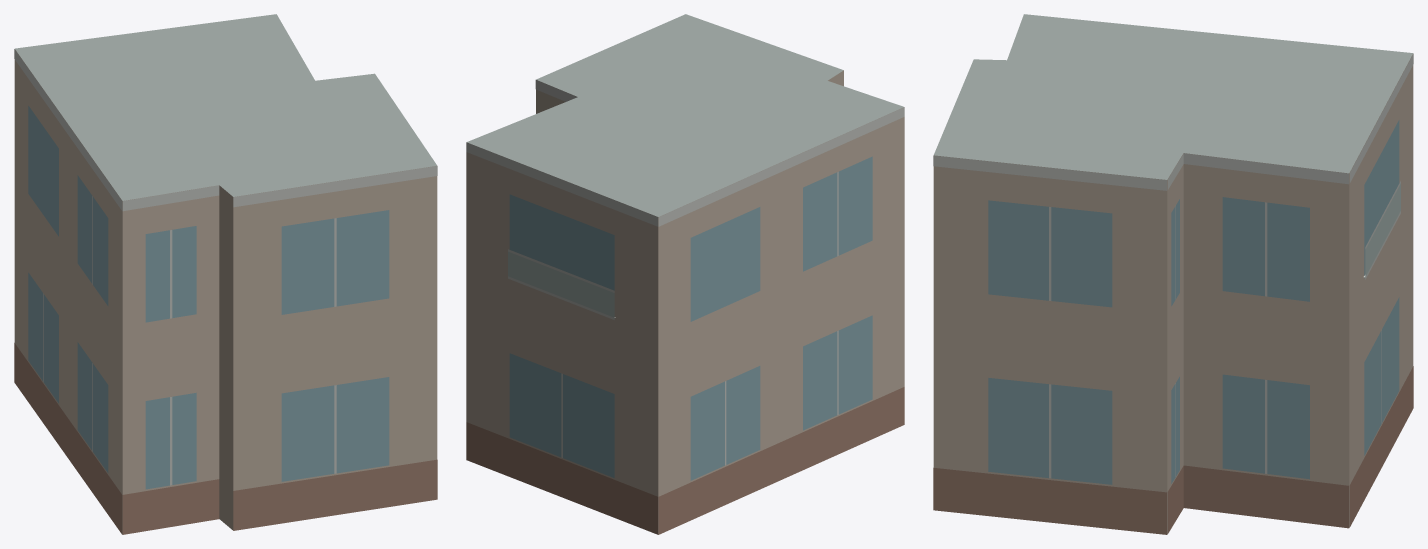
File: survey-upis-32922962.glb
3 views of the same model, side by side, from view 1: azimuth 30°, elevation 25°; view 2: azimuth 150°, elevation 25°; view 3: azimuth 270°, elevation 25° (orthographic). The views are drawn at different scales.
Visible parts, largest first — view 1: survey-upis-32922962.tmp; view 2: survey-upis-32922962.tmp; view 3: survey-upis-32922962.tmp.
Part boxes in pixels (x1,y1,x2,y2): survey-upis-32922962.tmp: [14, 14, 437, 534]; survey-upis-32922962.tmp: [466, 14, 904, 534]; survey-upis-32922962.tmp: [933, 14, 1413, 534].
Size of the model in its own units: 7.93 by 7.9 by 9.69.
